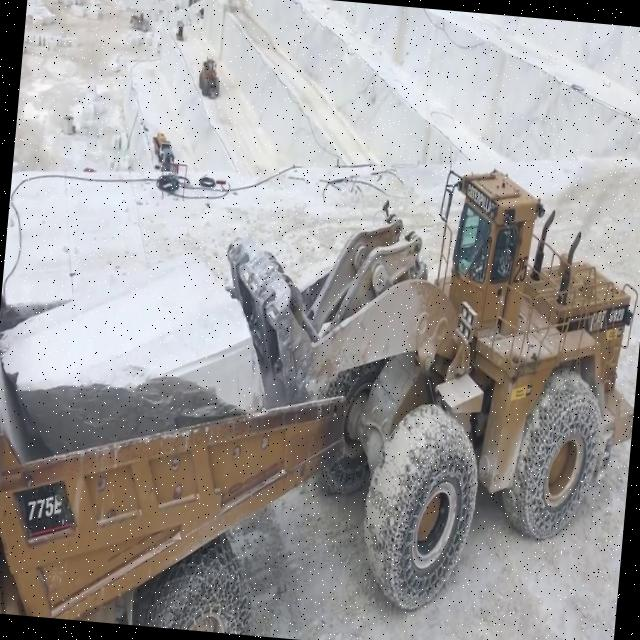Dump Truck: (0, 331, 352, 640)
Loader: (195, 151, 640, 634)
